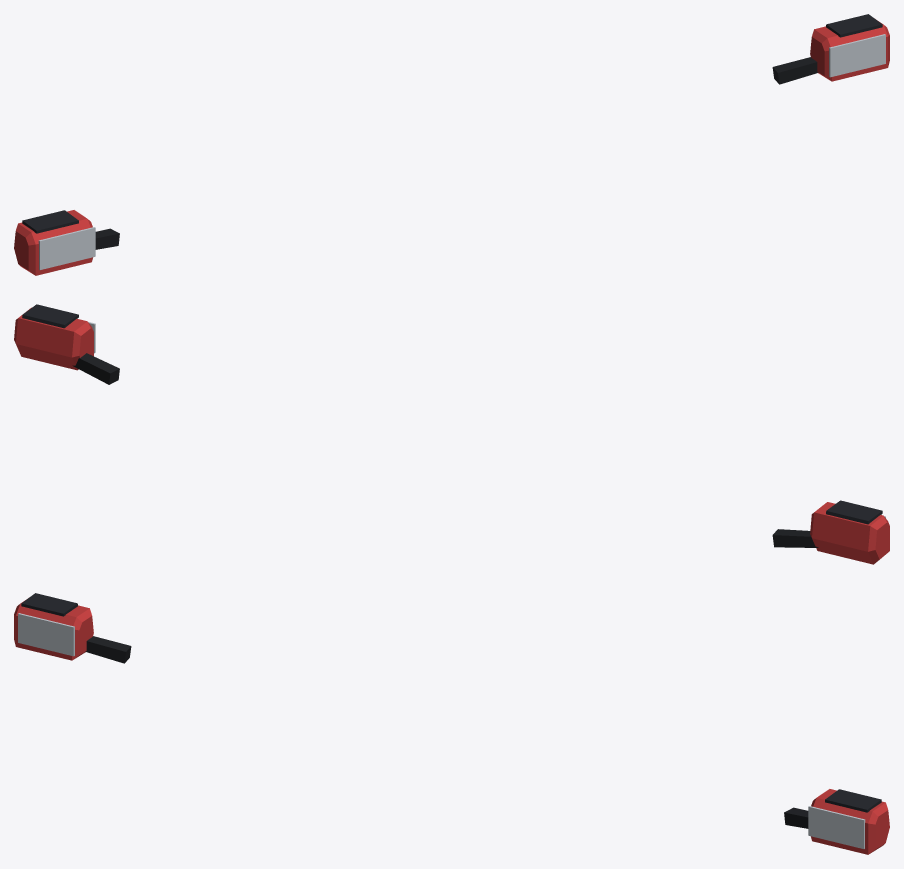
The model's file is mirror_sport.glb.
3 views of the same model, one above another, from view 1: azimuth 30°, elevation 25°; view 2: azimuth 150°, elevation 25°; view 3: azimuth 330°, elevation 25° (orthographic).
Parts seen in each view (by area): view 1: Body; view 2: Body; view 3: Body.
Part boxes in pixels (x1=…): Body: x1=14, y1=14, x2=889, y2=275; Body: x1=14, y1=304, x2=889, y2=564; Body: x1=14, y1=593, x2=889, y2=854.
Size of the model in its own units: 2.24 by 0.1129 by 0.0966.
